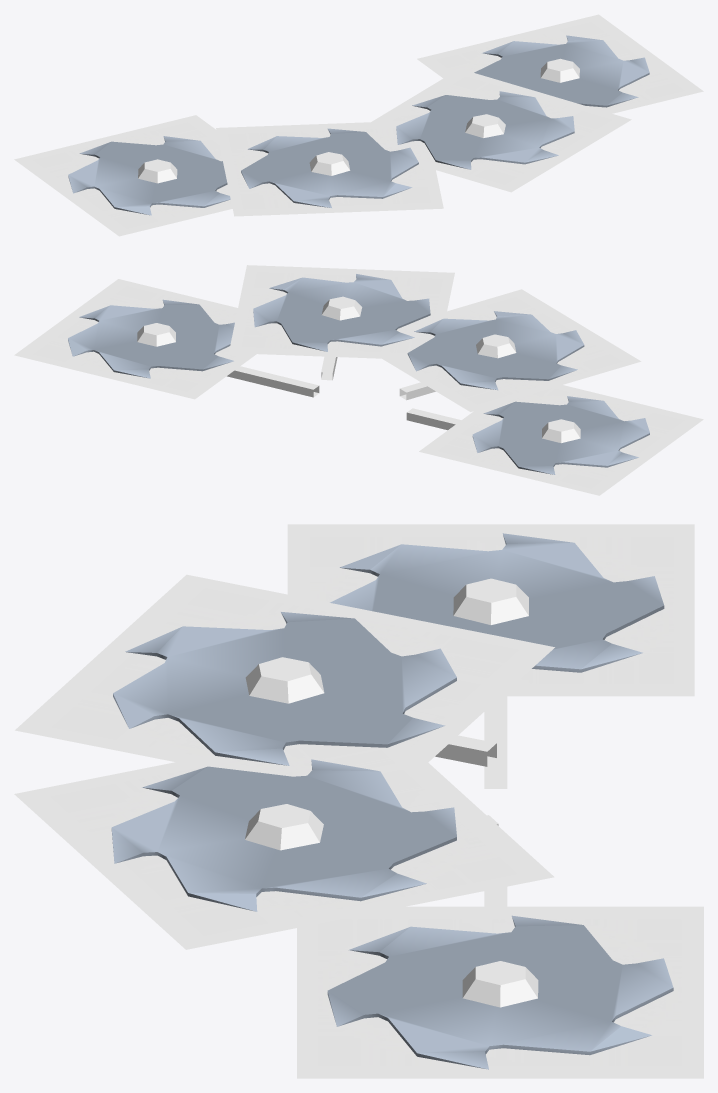
File: saw 7.FBX
3 renders of one model, top to bottom at view 1: azimuth 30°, elevation 25°; view 2: azimuth 150°, elevation 25°; view 3: azimuth 270°, elevation 25°, orthographic. The views are drawn at different scales.
Visible parts, largest first — view 1: Saw_Wind_FX, Saw_6_3, Saw_6_1, Saw_Wind_FX_1, Saw_6_7, Saw_Wind_FX_3, Saw_6_5, Saw_Wind_FX_2, Saw_6_cell_3, Saw_6_cell_1, Saw_6_cell_2, Saw_6_cell; view 2: Saw_Wind_FX_1, Saw_Wind_FX_3, Saw_6_1, Saw_6_7, Saw_6_3, Saw_6_5, Saw_Wind_FX_2, Saw_Wind_FX, Mounting_Saw_2, Saw_6_cell_1, Saw_6_cell, Saw_6_cell_3 (+3 smaller); view 3: Saw_Wind_FX_2, Saw_Wind_FX_1, Saw_6_1, Saw_6_5, Saw_6_3, Saw_Wind_FX, Saw_Wind_FX_3, Saw_6_7, Saw_6_cell_2, Saw_6_cell_3, Saw_6_cell, Saw_6_cell_1 (+2 smaller).
Part boxes in pixels (left/top/right/bottom): Saw_Wind_FX: left=216, top=121, right=443, bottom=216; Saw_6_3: left=396, top=91, right=574, bottom=169; Saw_6_1: left=241, top=128, right=418, bottom=207; Saw_Wind_FX_1: left=371, top=68, right=631, bottom=192; Saw_6_7: left=68, top=136, right=230, bottom=215; Saw_Wind_FX_3: left=14, top=115, right=232, bottom=236; Saw_6_5: left=474, top=35, right=649, bottom=107; Saw_Wind_FX_2: left=417, top=14, right=703, bottom=113; Saw_6_cell_3: left=138, top=159, right=177, bottom=183; Saw_6_cell_1: left=465, top=114, right=505, bottom=137; Saw_6_cell_2: left=540, top=58, right=579, bottom=82; Saw_6_cell: left=309, top=152, right=350, bottom=175; Saw_Wind_FX_1: left=229, top=265, right=454, bottom=359; Saw_Wind_FX_3: left=419, top=385, right=703, bottom=495; Saw_6_1: left=407, top=311, right=584, bottom=390; Saw_6_7: left=472, top=396, right=649, bottom=474; Saw_6_3: left=253, top=274, right=430, bottom=351; Saw_6_5: left=68, top=299, right=234, bottom=378; Saw_Wind_FX_2: left=14, top=279, right=256, bottom=399; Saw_Wind_FX: left=382, top=289, right=641, bottom=411; Mounting_Saw_2: left=227, top=366, right=319, bottom=397; Saw_6_cell_1: left=321, top=296, right=362, bottom=320; Saw_6_cell: left=476, top=334, right=516, bottom=358; Saw_6_cell_3: left=542, top=419, right=580, bottom=443; Saw_Wind_FX_2: left=297, top=906, right=703, bottom=1078; Saw_Wind_FX_1: left=14, top=741, right=554, bottom=949; Saw_6_1: left=113, top=612, right=456, bottom=765; Saw_6_5: left=327, top=915, right=673, bottom=1069; Saw_6_3: left=111, top=759, right=456, bottom=911; Saw_Wind_FX: left=15, top=574, right=554, bottom=792; Saw_Wind_FX_3: left=287, top=524, right=694, bottom=696; Saw_6_7: left=330, top=533, right=664, bottom=672; Saw_6_cell_2: left=462, top=961, right=538, bottom=1007; Saw_6_cell_3: left=453, top=578, right=528, bottom=624; Saw_6_cell: left=245, top=657, right=324, bottom=703; Saw_6_cell_1: left=245, top=804, right=323, bottom=850.
Bounding box in the file's own units: 706 × 52.93 × 371.
